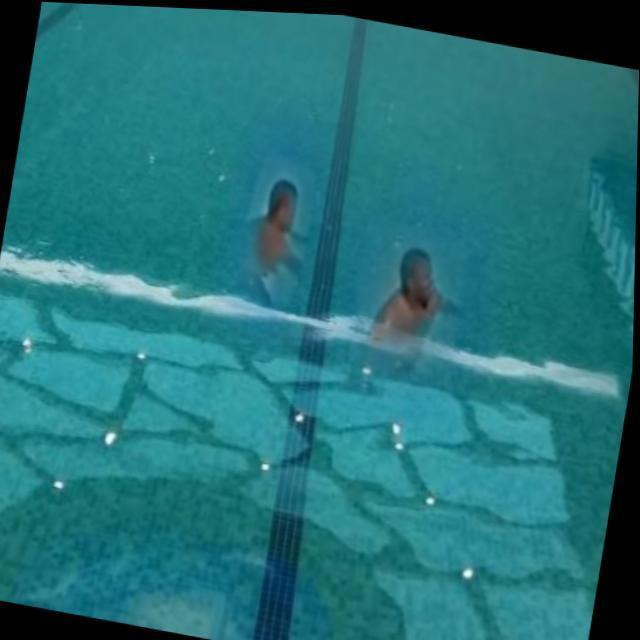swimming: (348, 222, 462, 378), (240, 154, 311, 291)
